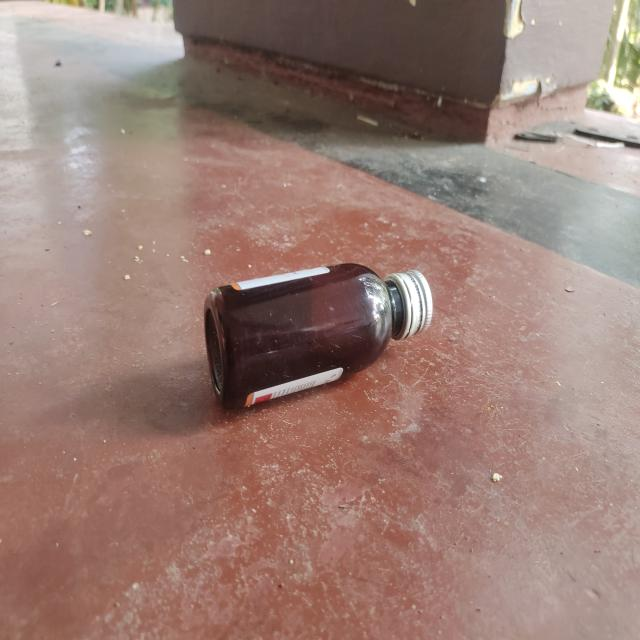plastic: (200, 259, 436, 410)
